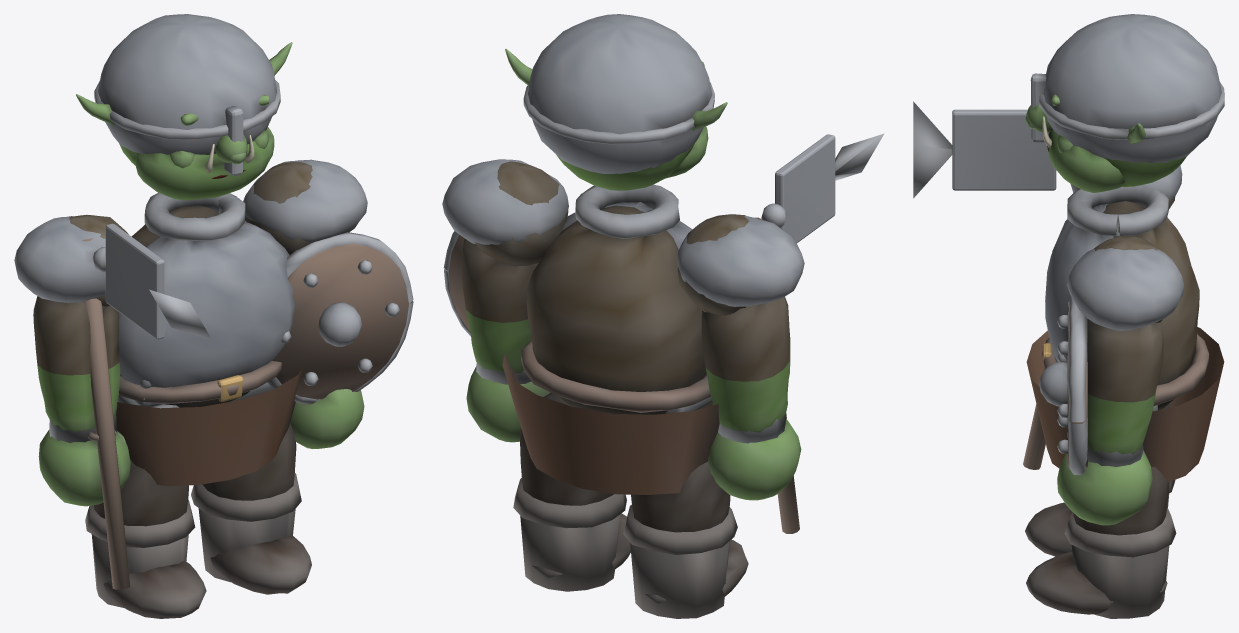
The picture shows the model from 3 angles, left to right: view 1: azimuth 30°, elevation 25°; view 2: azimuth 150°, elevation 25°; view 3: azimuth 270°, elevation 25°; orthographic projection. The views are drawn at different scales.
Parts seen in each view (by area): view 1: torso, head, armL, armR, legL, weapon, legR; view 2: torso, head, armR, legR, armL, legL, weapon; view 3: torso, head, armL, legL, weapon, legR.
Part boxes in pixels (x1,y1,x2,y2): torso: (14,159,367,485); head: (76,14,292,200); armL: (267,232,413,448); armR: (33,296,130,506); legL: (191,422,311,594); weapon: (82,223,212,589); legR: (85,459,206,618); torso: (442,159,804,494); head: (505,14,727,190); armR: (701,297,801,500); legR: (623,462,748,618); armL: (443,231,550,442); legL: (513,392,630,591); weapon: (755,133,884,533); torso: (1026,165,1224,482); head: (1025,14,1224,192); armL: (1039,296,1163,525); legL: (1026,466,1176,618); weapon: (913,101,1056,469); legR: (1025,404,1175,556).
Bounding box in the file's own units: 0.6568 × 0.9592 × 0.4846.
